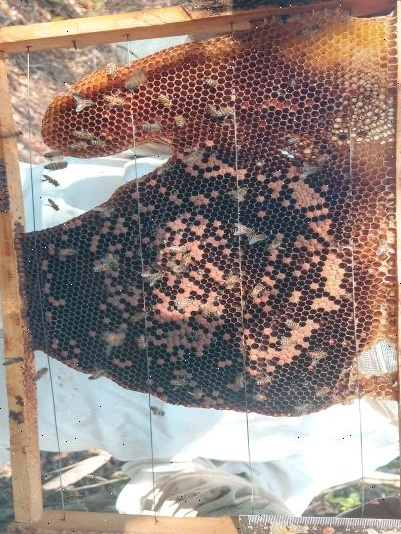cria: (22, 138, 346, 411)
